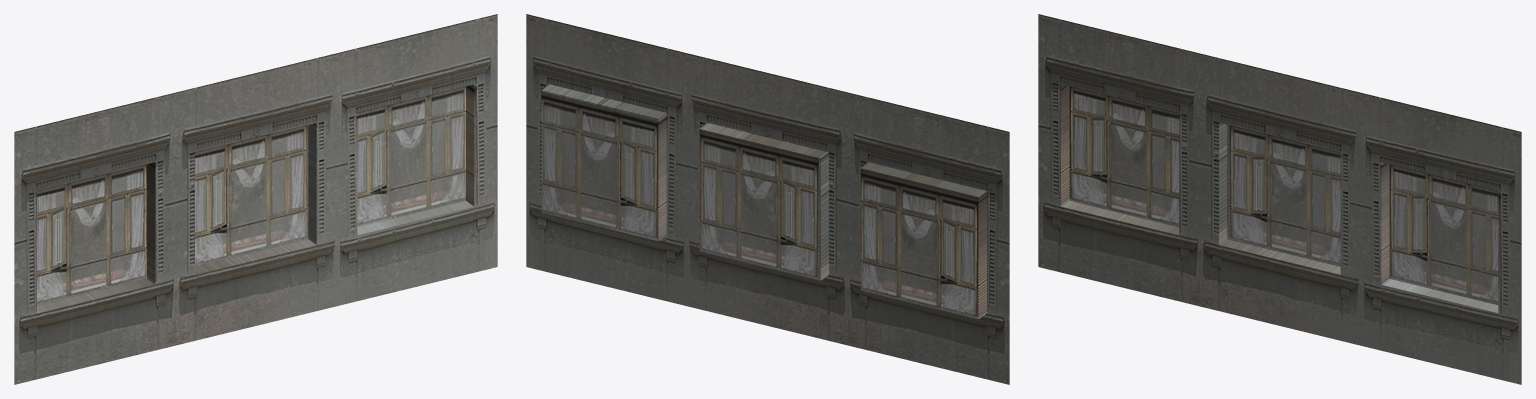
The model's file is CT_Building_Piece_05.fbx.
The picture shows the model from 3 angles, left to right: view 1: azimuth 30°, elevation 25°; view 2: azimuth 150°, elevation 25°; view 3: azimuth 330°, elevation 25°; orthographic projection.
Visible parts, largest first — view 1: CT_Building_Piece_05; view 2: CT_Building_Piece_05; view 3: CT_Building_Piece_05.
Part boxes in pixels (bbox=[...]): CT_Building_Piece_05: bbox=[14, 14, 497, 384]; CT_Building_Piece_05: bbox=[526, 14, 1009, 384]; CT_Building_Piece_05: bbox=[1038, 14, 1521, 384].
Bounding box in the file's own units: 512 × 256 × 15.
